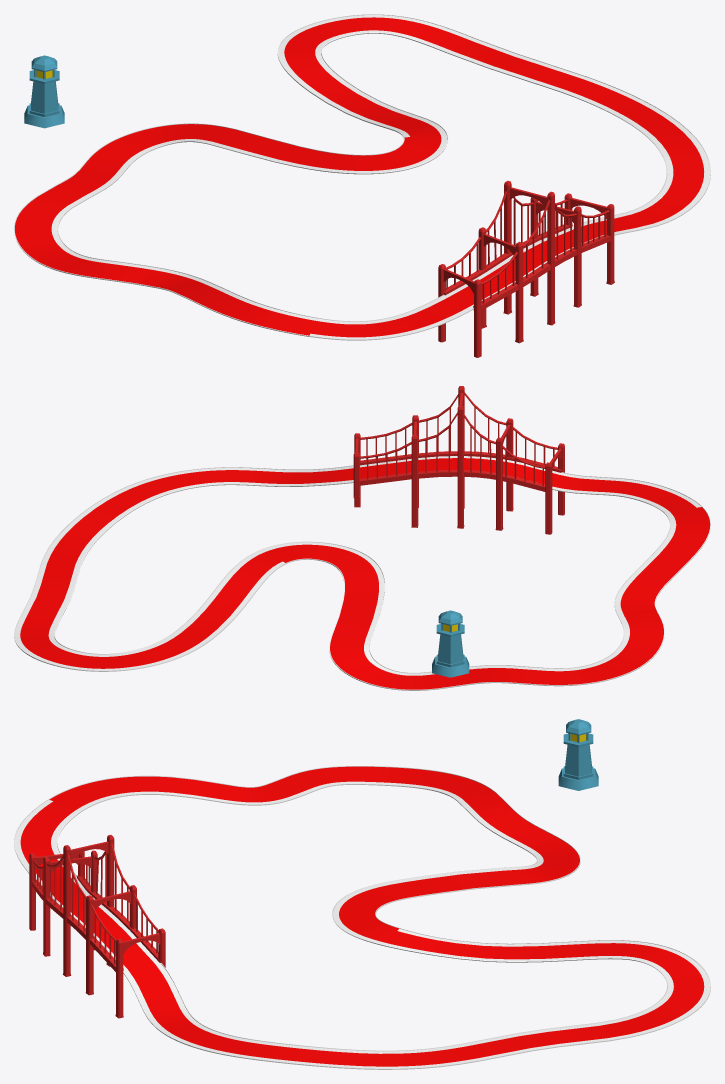
The picture shows the model from 3 angles, top to bottom: view 1: azimuth 30°, elevation 25°; view 2: azimuth 150°, elevation 25°; view 3: azimuth 270°, elevation 25°; orthographic projection. The views are drawn at different scales.
Parts seen in each view (by area): view 1: road, moct, bordur, mayak; view 2: road, moct, bordur, mayak; view 3: road, moct, bordur, mayak.
Part boxes in pixels (left/top/right/bottom): road: left=15, top=15, right=710, bottom=339; moct: left=438, top=180, right=614, bottom=357; bordur: left=14, top=14, right=710, bottom=340; mayak: left=24, top=55, right=64, bottom=128; road: left=14, top=456, right=710, bottom=689; moct: left=353, top=386, right=564, bottom=534; bordur: left=14, top=465, right=710, bottom=690; mayak: left=432, top=610, right=469, bottom=677; road: left=14, top=766, right=709, bottom=1068; moct: left=29, top=835, right=165, bottom=1018; bordur: left=14, top=766, right=710, bottom=1069; mayak: left=558, top=719, right=598, bottom=790.
Bounding box in the file's own units: 282 × 58.96 × 276.
